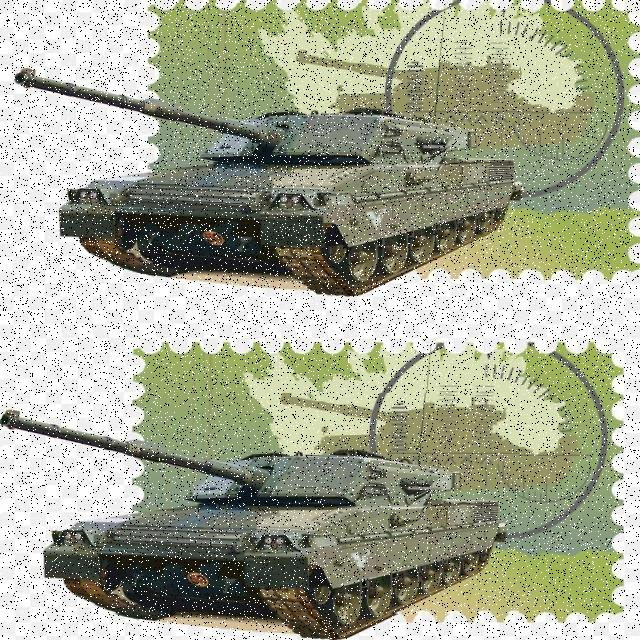MIL_MBT: (12, 3, 531, 331), (3, 393, 519, 613)
